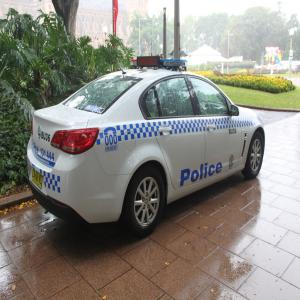Vehicle-registration-plate: (33, 169, 44, 190)
